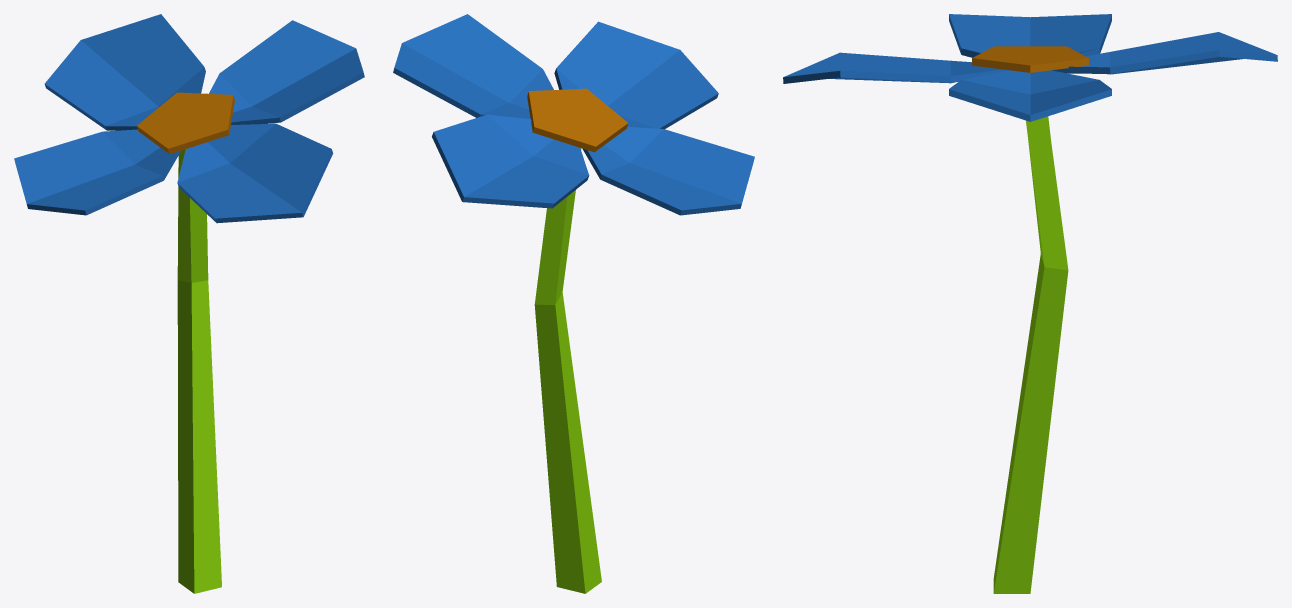
Rendered from Flower.fbx.
The picture shows the model from 3 angles, left to right: view 1: azimuth 30°, elevation 25°; view 2: azimuth 150°, elevation 25°; view 3: azimuth 270°, elevation 25°; orthographic projection. The views are drawn at different scales.
Parts seen in each view (by area): view 1: Flower; view 2: Flower; view 3: Flower.
Part boxes in pixels (<box>): Flower: <box>14,14,364,593</box>; Flower: <box>393,14,754,593</box>; Flower: <box>783,14,1277,593</box>.
Bounding box in the file's own units: 4.8 × 5.42 × 6.92.
